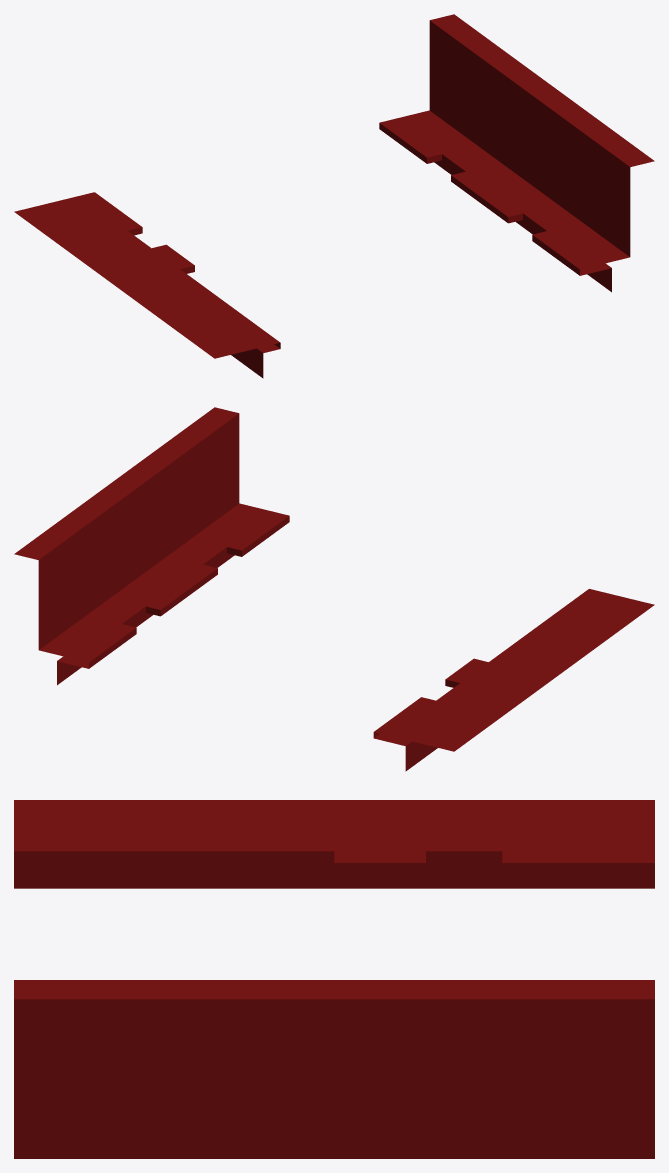
Rendered from SM_Catwalk_High_E.fbx.
The picture shows the model from 3 angles, top to bottom: view 1: azimuth 30°, elevation 25°; view 2: azimuth 150°, elevation 25°; view 3: azimuth 270°, elevation 25°; orthographic projection. The views are drawn at different scales.
Visible parts, largest first — view 1: SM_Catwalk_High_E; view 2: SM_Catwalk_High_E; view 3: SM_Catwalk_High_E.
Part boxes in pixels (box(x1,y1,x2,y2)): SM_Catwalk_High_E: box(14, 14, 654, 378); SM_Catwalk_High_E: box(14, 407, 654, 771); SM_Catwalk_High_E: box(14, 800, 654, 1158).
Size of the model in its own units: 170 by 44.99 by 134.
